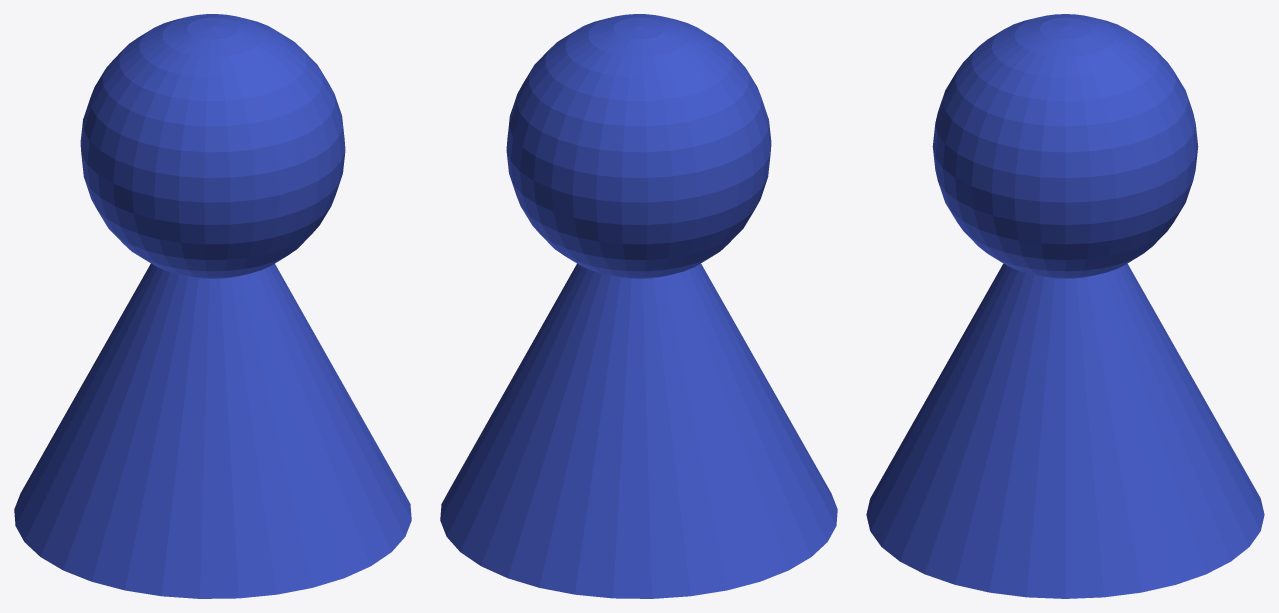
The model's file is CharacterMapIcon.glb.
The picture shows the model from 3 angles, left to right: view 1: azimuth 30°, elevation 25°; view 2: azimuth 150°, elevation 25°; view 3: azimuth 270°, elevation 25°; orthographic projection.
Parts seen in each view (by area): view 1: Sphere; view 2: Sphere; view 3: Sphere.
Part boxes in pixels (<box>): Sphere: <box>14,14,411,598</box>; Sphere: <box>440,14,837,598</box>; Sphere: <box>866,14,1264,598</box>.
Size of the model in its own units: 0.3 by 0.4061 by 0.3.
1 material, 1 textured.
